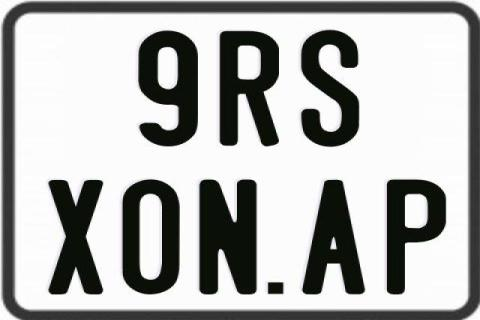0: (138, 30, 204, 148), (120, 178, 181, 294)
A: (299, 178, 366, 292)
N: (198, 179, 258, 297)
P: (386, 178, 449, 294)
R: (218, 30, 278, 146)
S: (301, 29, 364, 149)
X: (47, 179, 102, 295)
